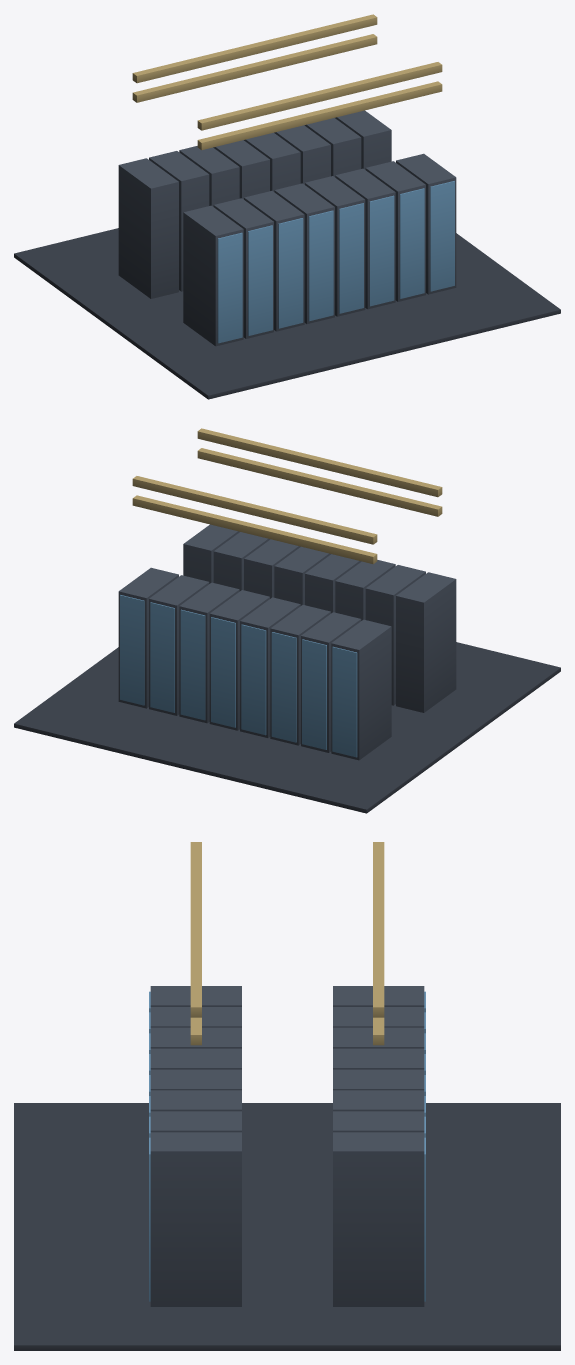
The model's file is dgx-h100.glb.
3 renders of one model, top to bottom at view 1: azimuth 30°, elevation 25°; view 2: azimuth 150°, elevation 25°; view 3: azimuth 270°, elevation 25°, orthographic. The views are drawn at different scales.
Parts seen in each view (by area): view 1: floor, rack-B1, rack-A1, busway-A1, busway-A2, busway-B1, busway-B2, rack-A4-door, rack-A3-door, rack-A1-door, rack-A6-door, rack-A2-door (+17 smaller); view 2: floor, rack-A1, rack-B1, busway-B1, busway-B2, busway-A1, busway-A2, rack-B4-door, rack-B3-door, rack-B1-door, rack-B6-door, rack-B2-door (+17 smaller); view 3: floor, rack-A8, rack-B8, busway-A2, busway-B2, rack-A4, rack-A6, rack-A7, rack-B4, rack-B6, rack-B7, rack-A5 (+7 smaller).
Part boxes in pixels (x1=…): floor: x1=14, y1=228, x2=560, y2=399; rack-B1: x1=118, y1=158, x2=178, y2=298; rack-A1: x1=183, y1=205, x2=243, y2=346; busway-A1: x1=197, y1=81, x2=442, y2=150; busway-A2: x1=197, y1=62, x2=442, y2=130; busway-B1: x1=132, y1=34, x2=377, y2=102; busway-B2: x1=132, y1=14, x2=377, y2=83; rack-A4-door: x1=308, y1=210, x2=333, y2=321; rack-A3-door: x1=278, y1=218, x2=303, y2=328; rack-A1-door: x1=217, y1=232, x2=242, y2=343; rack-A6-door: x1=369, y1=195, x2=394, y2=306; rack-A2-door: x1=248, y1=225, x2=272, y2=335; floor: x1=14, y1=642, x2=560, y2=813; rack-A1: x1=396, y1=572, x2=456, y2=712; rack-B1: x1=331, y1=619, x2=391, y2=760; busway-B1: x1=132, y1=495, x2=377, y2=564; busway-B2: x1=132, y1=476, x2=377, y2=544; busway-A1: x1=197, y1=448, x2=442, y2=516; busway-A2: x1=197, y1=428, x2=442, y2=497; rack-B4-door: x1=241, y1=624, x2=266, y2=735; rack-B3-door: x1=271, y1=632, x2=296, y2=742; rack-B1-door: x1=332, y1=646, x2=357, y2=757; rack-B6-door: x1=180, y1=609, x2=205, y2=720; rack-B2-door: x1=302, y1=639, x2=326, y2=749; floor: x1=14, y1=1103, x2=560, y2=1350; rack-A8: x1=150, y1=1132, x2=241, y2=1306; rack-B8: x1=333, y1=1132, x2=424, y2=1306; busway-A2: x1=190, y1=842, x2=201, y2=1017; busway-B2: x1=373, y1=842, x2=384, y2=1017; rack-A4: x1=150, y1=1048, x2=241, y2=1069; rack-A6: x1=150, y1=1090, x2=241, y2=1111; rack-A7: x1=150, y1=1111, x2=241, y2=1132; rack-B4: x1=333, y1=1048, x2=424, y2=1069; rack-B6: x1=333, y1=1090, x2=424, y2=1111; rack-B7: x1=333, y1=1111, x2=424, y2=1132; rack-A5: x1=150, y1=1069, x2=241, y2=1090.
Size of the model in its own units: 7.55 by 4.43 by 7.2.
